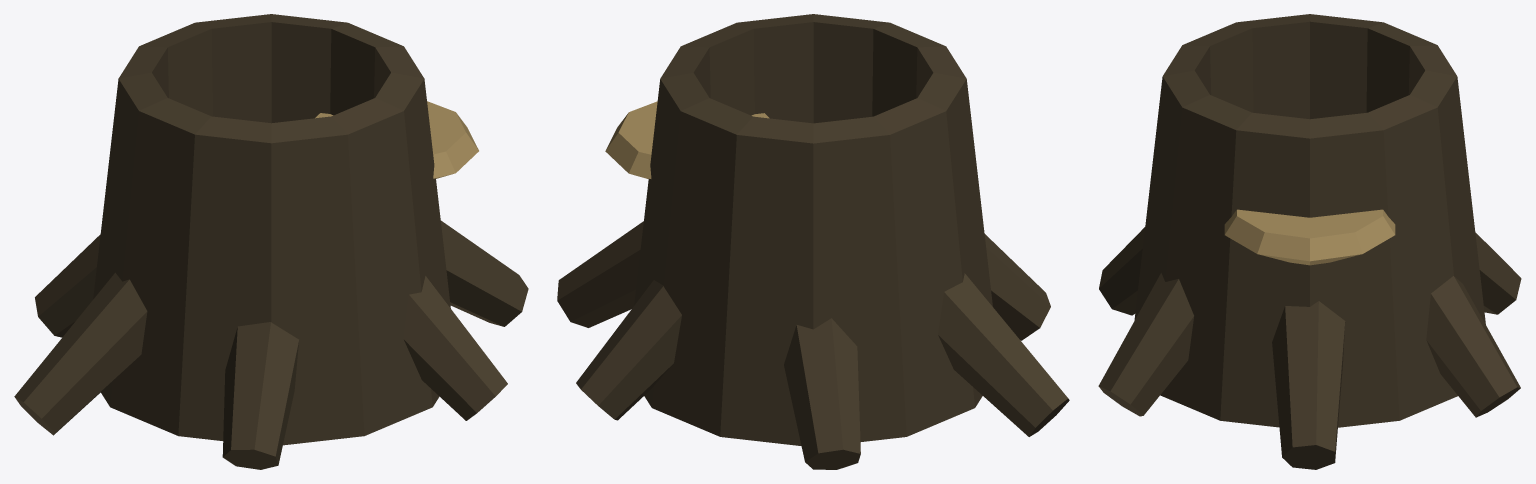
The model's file is hollow-stump.glb.
The picture shows the model from 3 angles, left to right: view 1: azimuth 30°, elevation 25°; view 2: azimuth 150°, elevation 25°; view 3: azimuth 270°, elevation 25°; orthographic projection. The views are drawn at different scales.
Parts seen in each view (by area): view 1: hollow-stump__body; view 2: hollow-stump__body; view 3: hollow-stump__body.
Boxes of the visible parts, box(x1,y1,x2,y2) form: hollow-stump__body: box(14, 14, 528, 469); hollow-stump__body: box(557, 14, 1069, 469); hollow-stump__body: box(1098, 14, 1521, 469).
Size of the model in its own units: 0.8718 by 0.5086 by 0.66.
